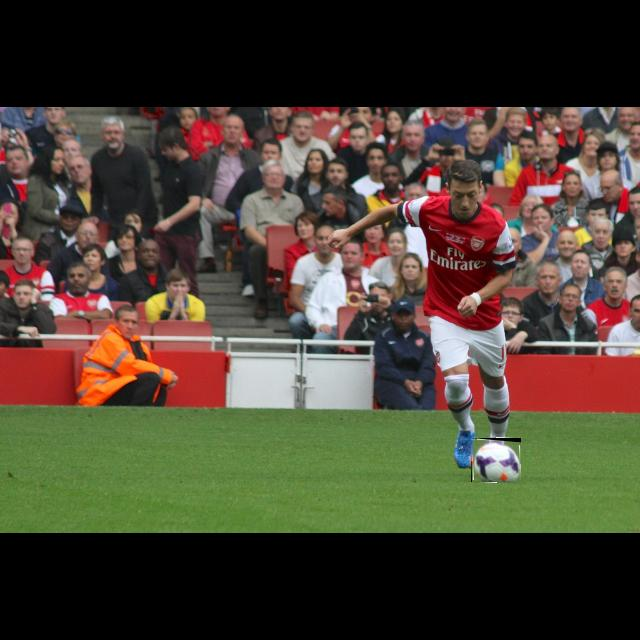Football: (471, 438, 521, 482)
